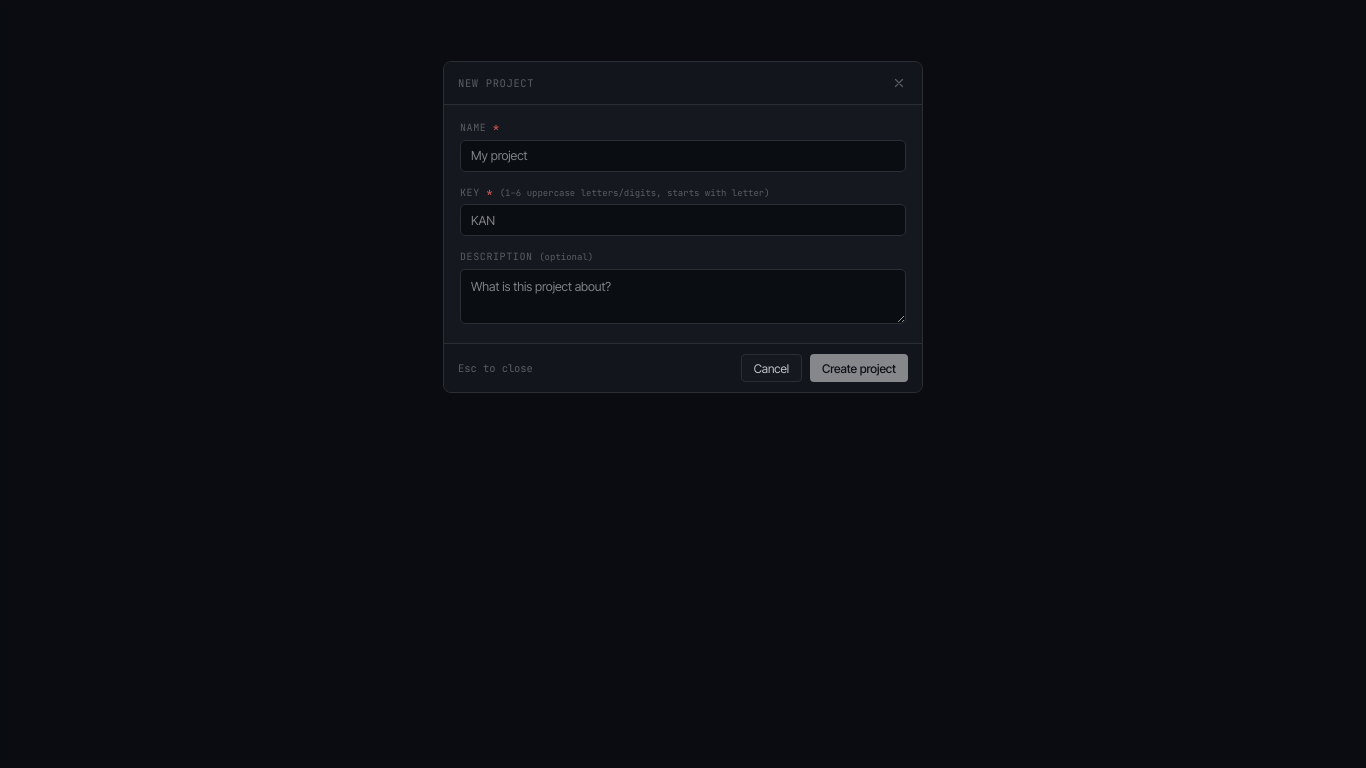
Test case: CreateProjectModal › (e) key is auto-derived from name initials when not manually touched
In the field with test id "new-project-name": (683,156) [460, 140, 906, 172], type "Frontend Tooling"
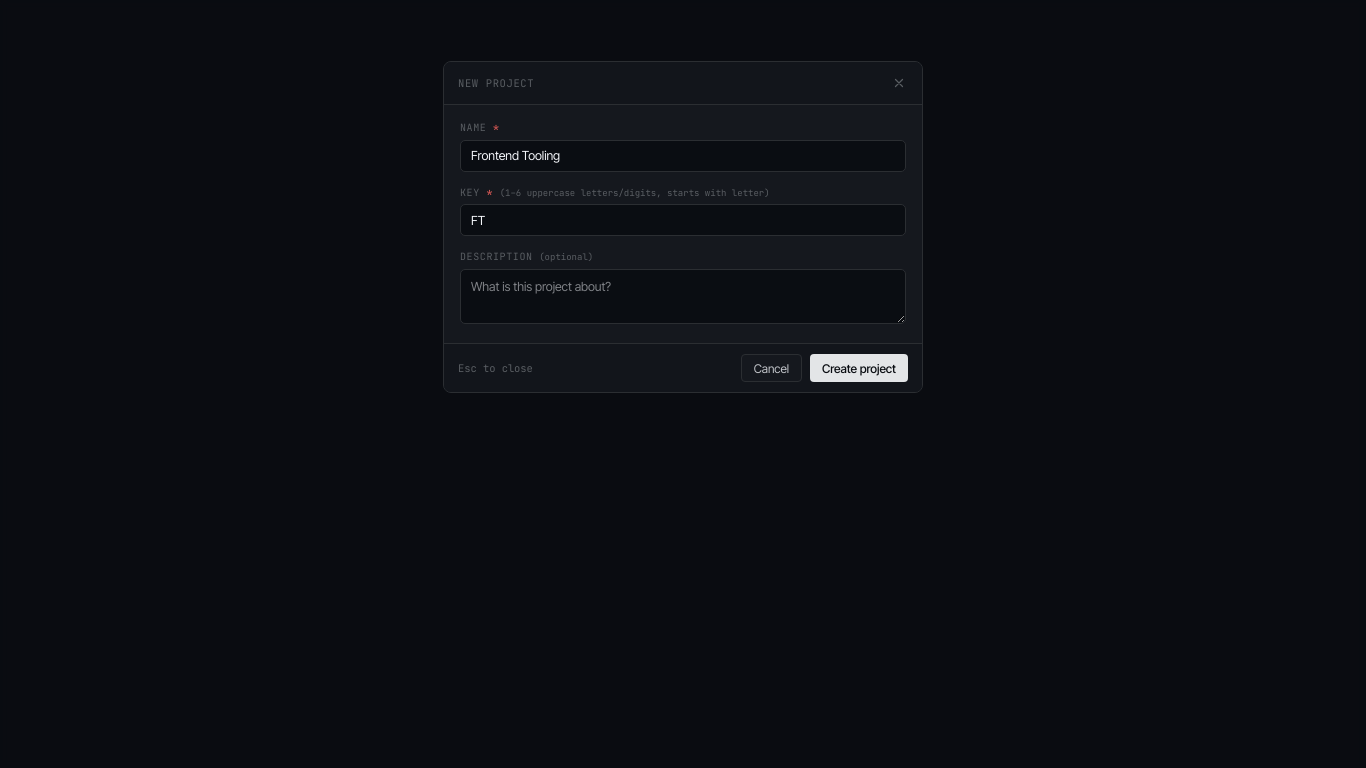
Expected: the field with test id "new-project-key" holds "FT", [460, 204, 906, 236]
